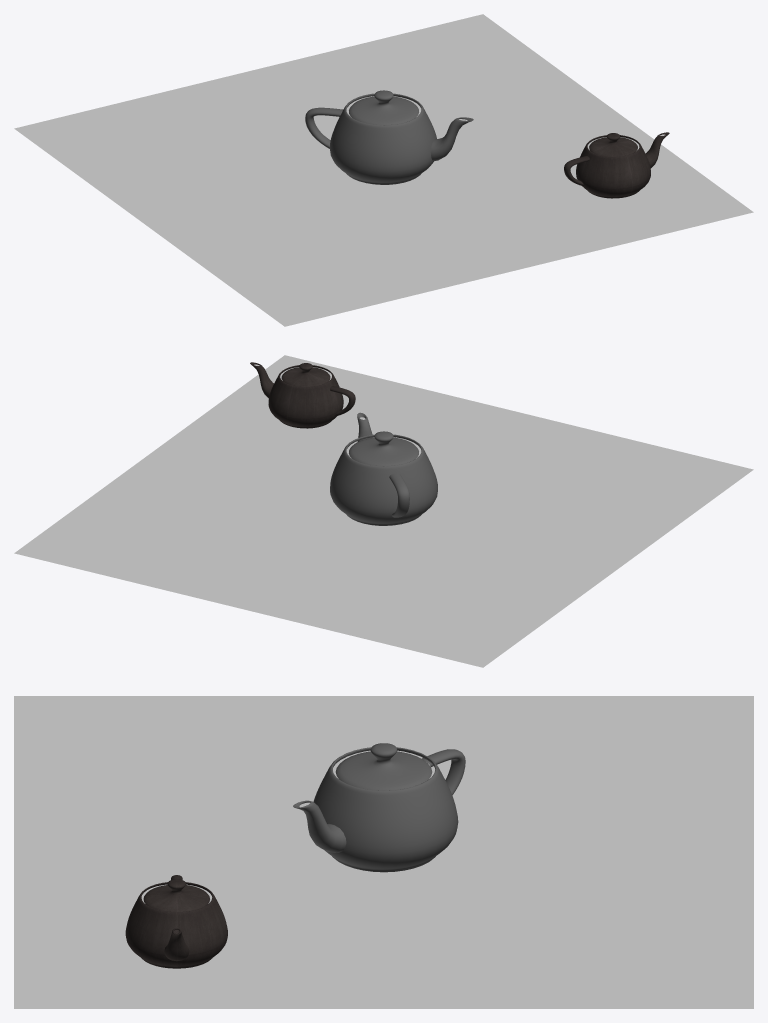
The model's file is tea.gltf.
3 renders of one model, top to bottom at view 1: azimuth 30°, elevation 25°; view 2: azimuth 150°, elevation 25°; view 3: azimuth 270°, elevation 25°, orthographic. The views are drawn at different scales.
Parts seen in each view (by area): view 1: Teapot; view 2: Teapot; view 3: Teapot.
Part boxes in pixels (<box>): Teapot: <box>14,14,753,326</box>; Teapot: <box>14,355,753,667</box>; Teapot: <box>14,696,753,1008</box>.
Bounding box in the file's own units: 0.2 × 0.0315 × 0.2.
Materials: 3 (1 with a texture image).
